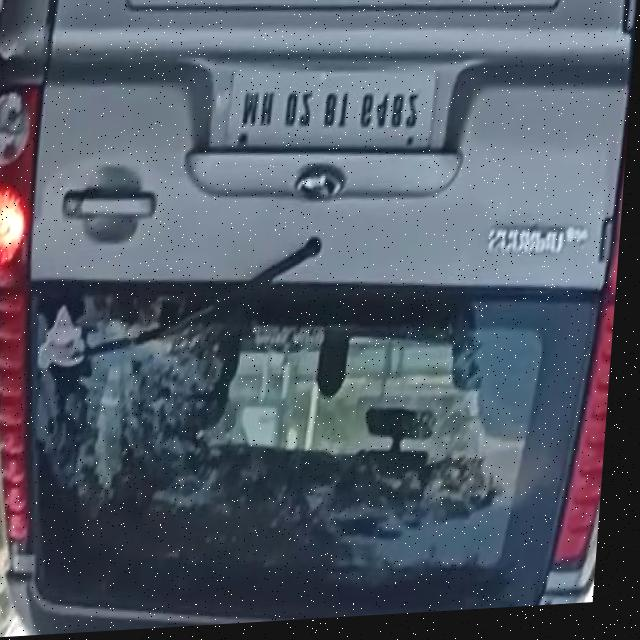plate: (224, 62, 441, 167)
